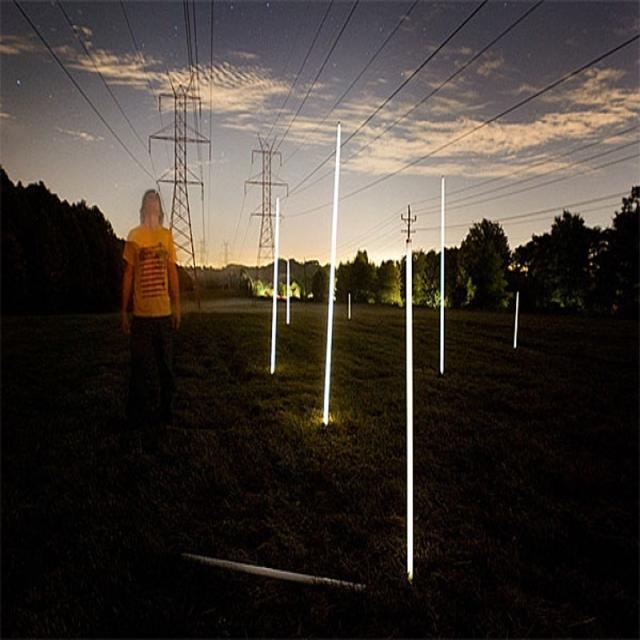non-critical vegetation: (158, 83, 218, 289), (240, 127, 282, 279)
